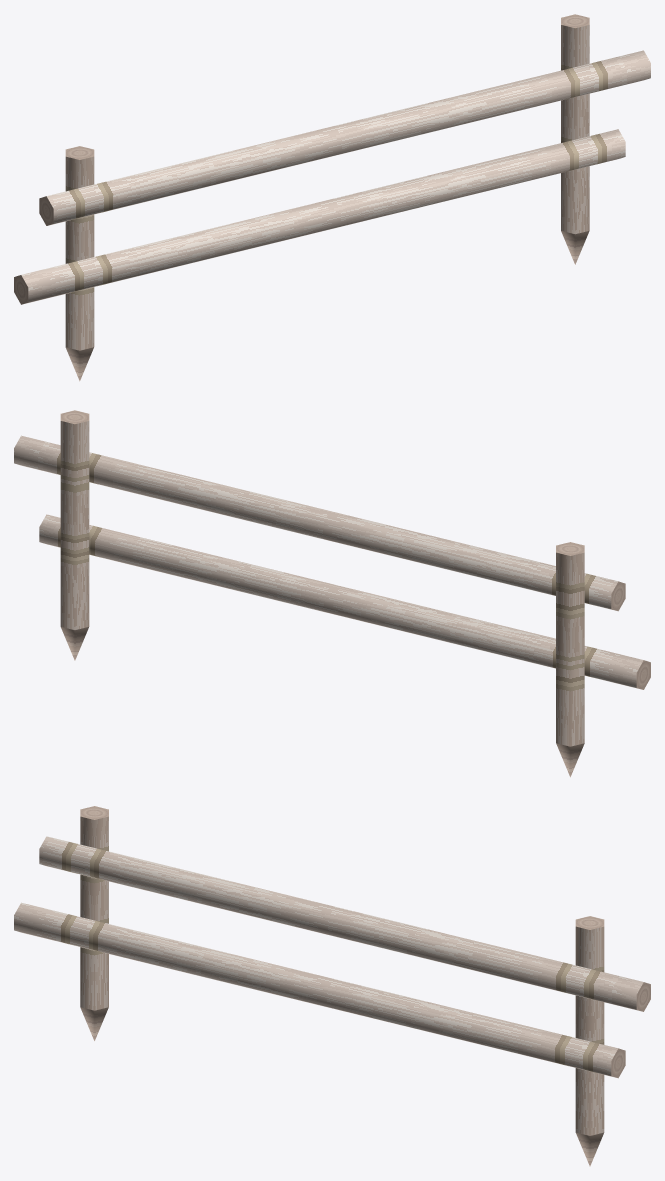
The model's file is 01cf_Log_Fence.glb.
3 renders of one model, top to bottom at view 1: azimuth 30°, elevation 25°; view 2: azimuth 150°, elevation 25°; view 3: azimuth 330°, elevation 25°, orthographic.
Visible parts, largest first — view 1: part_0; view 2: part_0; view 3: part_0.
Part boxes in pixels (x1=…): part_0: x1=14, y1=14, x2=650, y2=381; part_0: x1=14, y1=410, x2=650, y2=777; part_0: x1=14, y1=806, x2=650, y2=1166.
Bounding box in the file's own units: 5.21 × 1.95 × 0.3146.
Materials: 1 (1 with a texture image).
